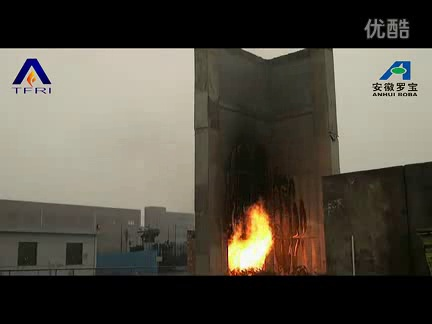fire: (225, 196, 275, 275)
